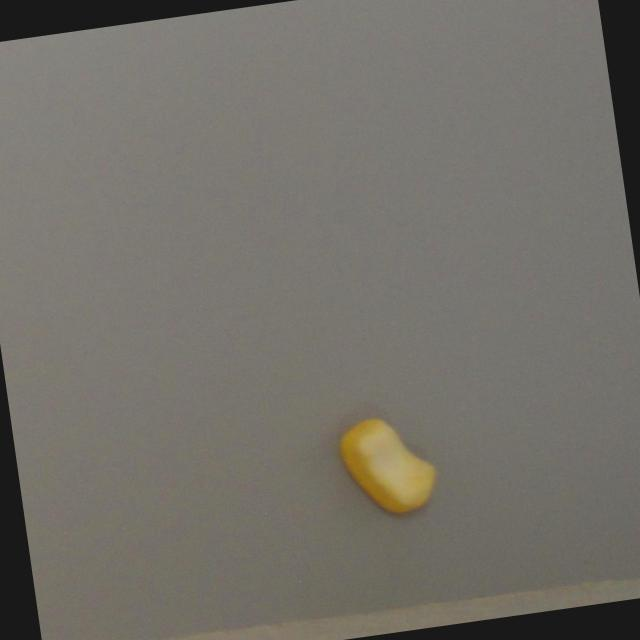no_canjicado: (335, 410, 443, 523)
